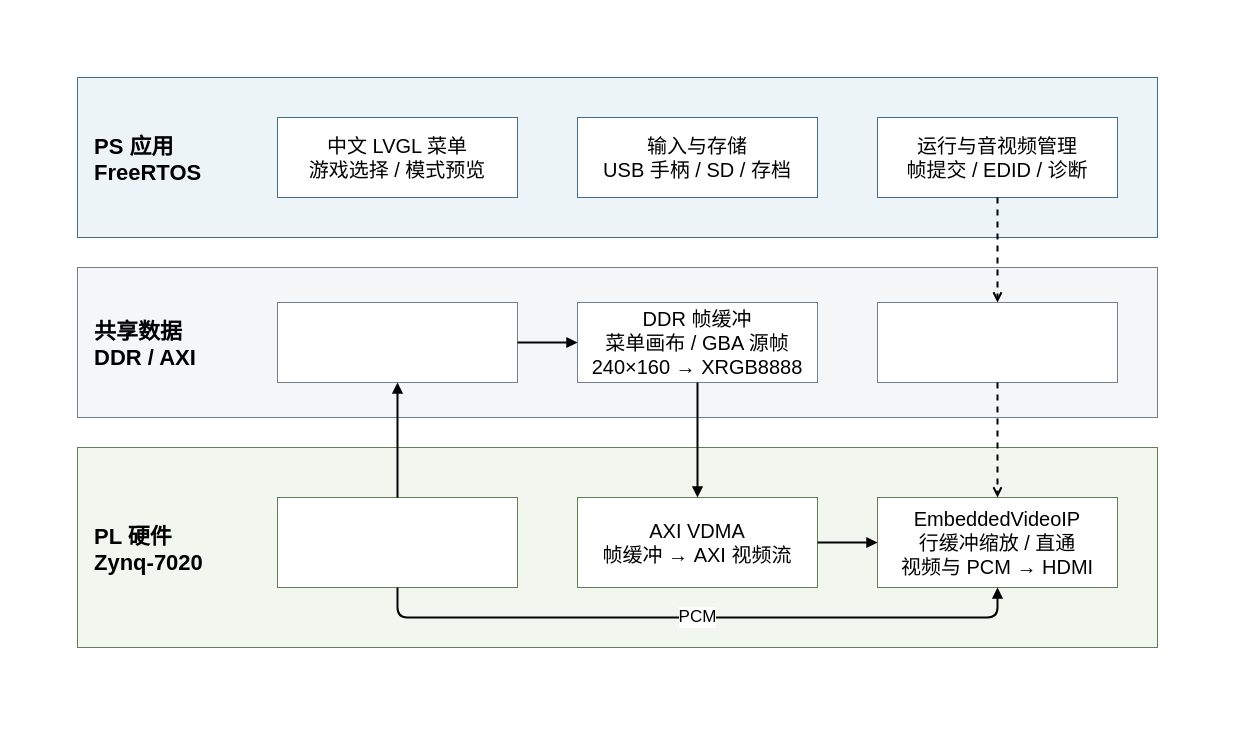
This 1234x744 diagram has some shape labels left out. The centre of each missing label's shape, as x and y in pixels:
GBA 核心与采集 游戏像素 / PCM / 快照: the point at 397,542
PS / PL 契约 AXI 寄存器 / 中断: the point at 997,342
游戏与状态 ROM / 存档 / 帧快照: the point at 397,342
